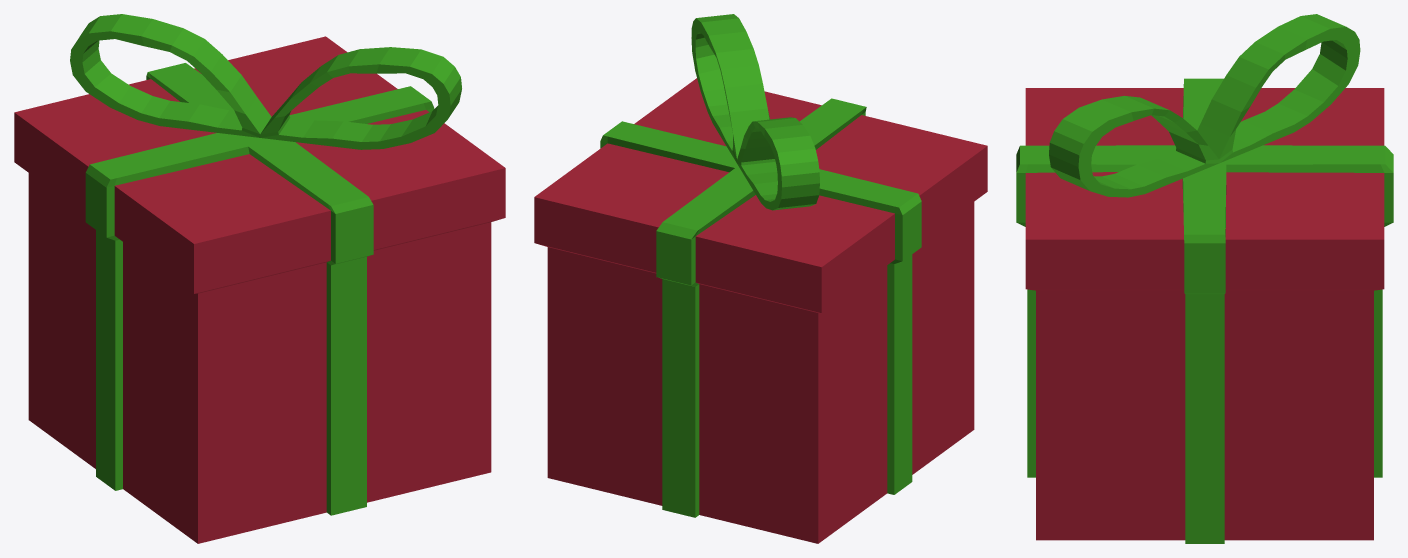
Rendered from Gift.glb.
3 views of the same model, side by side, from view 1: azimuth 30°, elevation 25°; view 2: azimuth 150°, elevation 25°; view 3: azimuth 270°, elevation 25° (orthographic). The views are drawn at different scales.
Visible parts, largest first — view 1: Present, Bow; view 2: Present, Bow; view 3: Present, Bow.
Part boxes in pixels (x1,y1,x2,y2): Present: (14, 36, 505, 543); Bow: (70, 14, 461, 149); Present: (534, 78, 987, 543); Bow: (691, 14, 819, 210); Present: (1016, 78, 1393, 543); Bow: (1049, 14, 1360, 197).
Size of the model in its own units: 6.2 by 7.31 by 6.19.
Materials: 2 (1 with a texture image).
